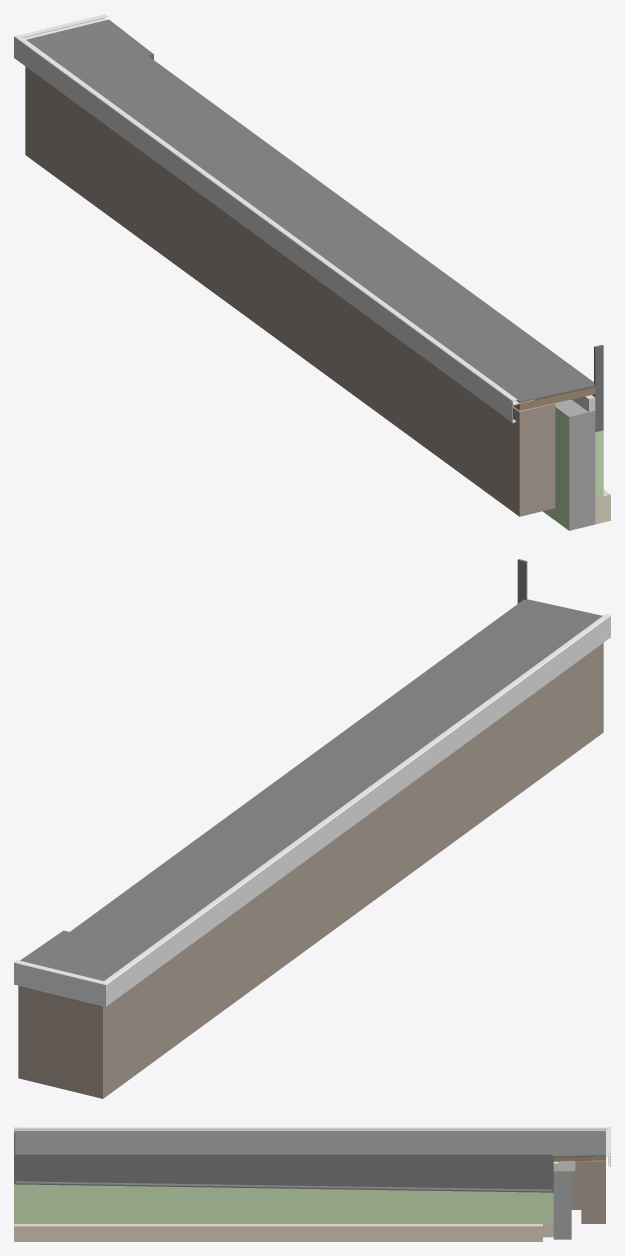
3 renders of one model, top to bottom at view 1: azimuth 30°, elevation 25°; view 2: azimuth 150°, elevation 25°; view 3: azimuth 270°, elevation 25°, orthographic. The views are drawn at different scales.
Parts seen in each view (by area): view 1: [6718988]21_Metselwerk Sonsbeek 100mm, Aberson 48N13, [6718893]47_Dakbedekking, [6718881]Roofs 7, [6718948]21_HSB rekje dakopstand uitbouw, [6718989]21_Metselwerk Sonsbeek 100mm, Aberson 48N13, [6718900]AL_47_Dakbedekking, [6718851]47_Dakbedekking; view 2: [6718988]21_Metselwerk Sonsbeek 100mm, Aberson 48N13, [6718893]47_Dakbedekking, [6718881]Roofs 7, [6718989]21_Metselwerk Sonsbeek 100mm, Aberson 48N13, [6718900]AL_47_Dakbedekking; view 3: [6718861]Roofs 9, [6718900]AL_47_Dakbedekking, [6718893]47_Dakbedekking, [6718922]Regelwerk 44x70mm, [6718881]Roofs 7, [6718851]47_Dakbedekking, [6718989]21_Metselwerk Sonsbeek 100mm, Aberson 48N13, [6719004]21_HSB rekje dakopstand uitbouw, [6718988]21_Metselwerk Sonsbeek 100mm, Aberson 48N13, [6718876]27_Underlayment, [6718932]Regelwerk 44x70 tpv afdekker.
Boxes of the visible parts, bbox=[...] form: [6718988]21_Metselwerk Sonsbeek 100mm, Aberson 48N13: bbox=[46, 81, 555, 516]; [6718893]47_Dakbedekking: bbox=[26, 19, 595, 403]; [6718881]Roofs 7: bbox=[14, 14, 534, 422]; [6718948]21_HSB rekje dakopstand uitbouw: bbox=[543, 399, 595, 530]; [6718989]21_Metselwerk Sonsbeek 100mm, Aberson 48N13: bbox=[25, 66, 45, 169]; [6718900]AL_47_Dakbedekking: bbox=[146, 56, 593, 396]; [6718851]47_Dakbedekking: bbox=[594, 345, 603, 432]; [6718988]21_Metselwerk Sonsbeek 100mm, Aberson 48N13: bbox=[124, 643, 603, 1083]; [6718893]47_Dakbedekking: bbox=[20, 599, 602, 980]; [6718881]Roofs 7: bbox=[14, 614, 610, 1006]; [6718989]21_Metselwerk Sonsbeek 100mm, Aberson 48N13: bbox=[18, 985, 123, 1098]; [6718900]AL_47_Dakbedekking: bbox=[70, 599, 525, 932]; [6718861]Roofs 9: bbox=[14, 1184, 553, 1223]; [6718900]AL_47_Dakbedekking: bbox=[15, 1154, 552, 1189]; [6718893]47_Dakbedekking: bbox=[14, 1130, 605, 1157]; [6718922]Regelwerk 44x70mm: bbox=[14, 1224, 542, 1241]; [6718881]Roofs 7: bbox=[14, 1127, 610, 1166]; [6718851]47_Dakbedekking: bbox=[14, 1131, 553, 1192]; [6718989]21_Metselwerk Sonsbeek 100mm, Aberson 48N13: bbox=[581, 1160, 605, 1223]; [6719004]21_HSB rekje dakopstand uitbouw: bbox=[553, 1171, 571, 1239]; [6718988]21_Metselwerk Sonsbeek 100mm, Aberson 48N13: bbox=[571, 1161, 581, 1209]; [6718876]27_Underlayment: bbox=[553, 1156, 605, 1161]; [6718932]Regelwerk 44x70 tpv afdekker: bbox=[558, 1161, 575, 1171].
Bounding box in the file's own units: 0.276 × 0.474 × 2.42.
